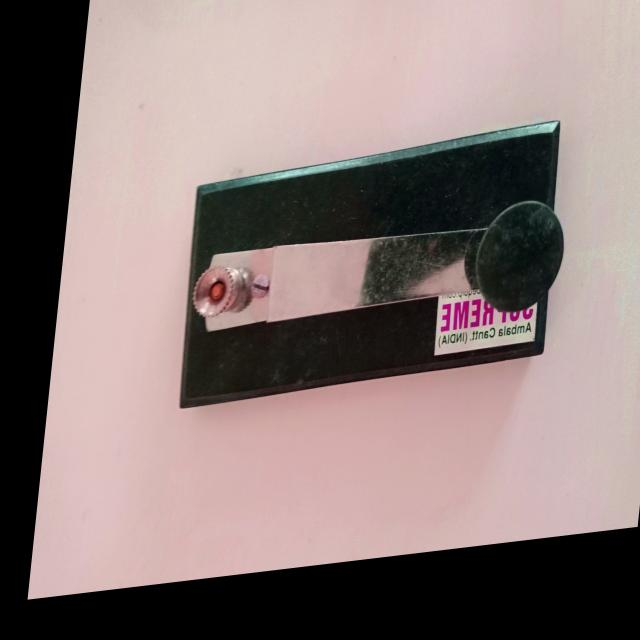Press Key: (160, 120, 581, 424)
